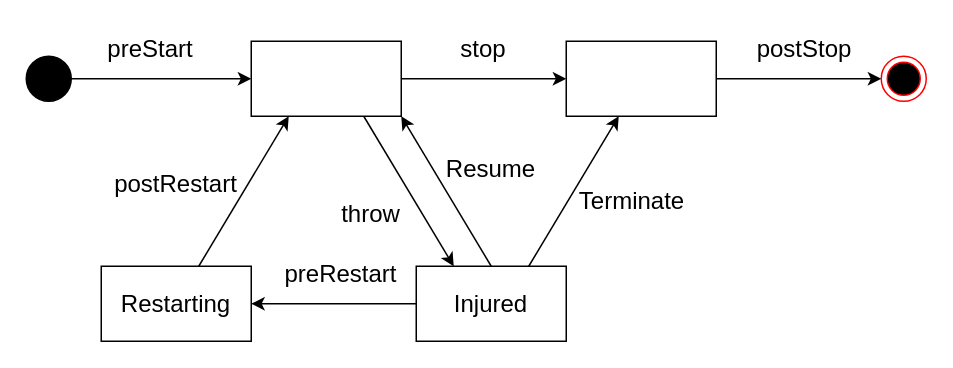
Image size: 953x368. Some labels were removed from this diagram. Each missing label, with the centre of its shape:
Started: (325,78)
Stopped: (640,78)
